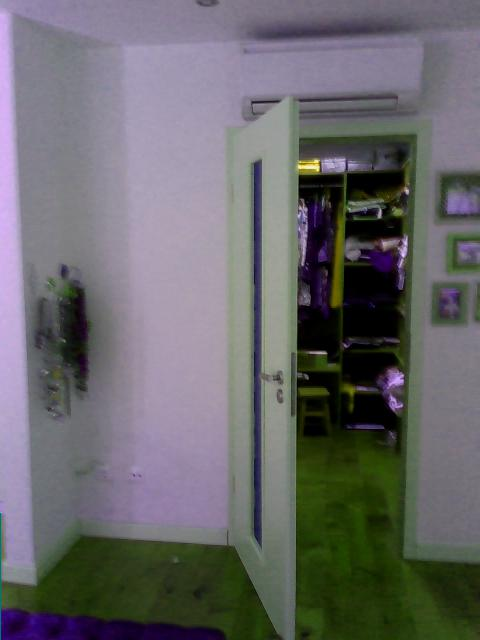semi_door: (227, 90, 429, 639)
